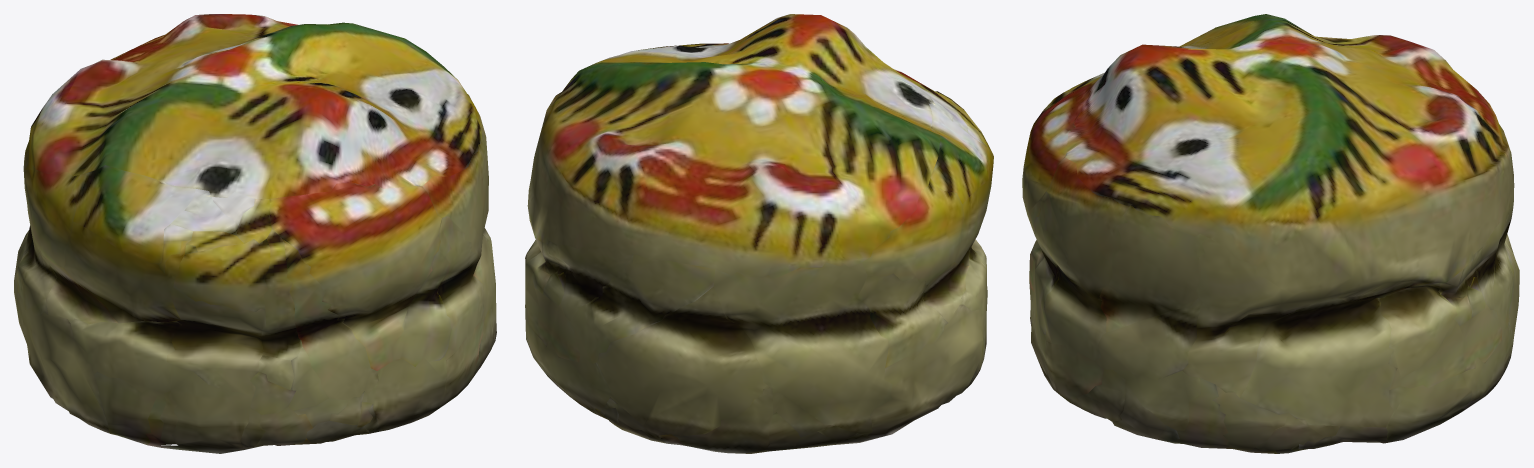
File: hall.glb
3 views of the same model, side by side, from view 1: azimuth 30°, elevation 25°; view 2: azimuth 150°, elevation 25°; view 3: azimuth 270°, elevation 25° (orthographic). The views are drawn at different scales.
Bounding box in the file's own units: 0.3966 × 0.2873 × 0.3961.
Materials: 1 (1 with a texture image).
